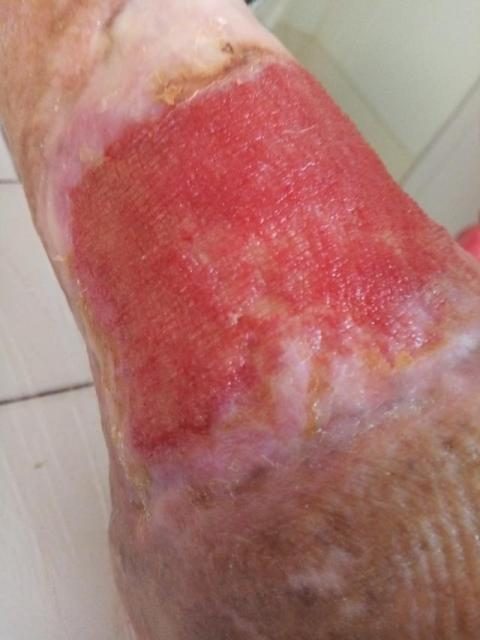wound: (70, 60, 455, 466)
